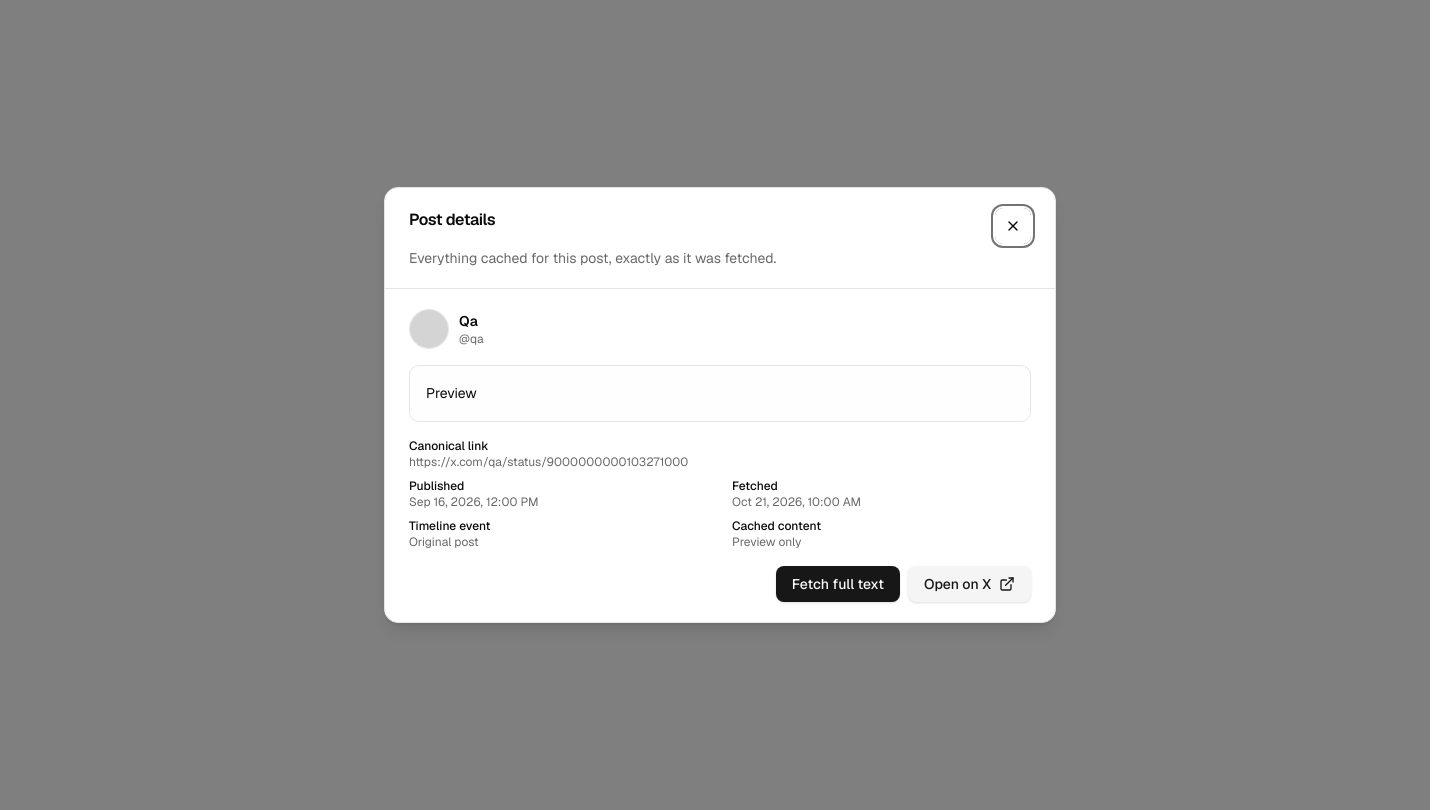
Test case: preserves the preview and permits retry after a fetch failure
Click the button "Fetch full text".
click(838, 584)  # box [776,566,900,602]
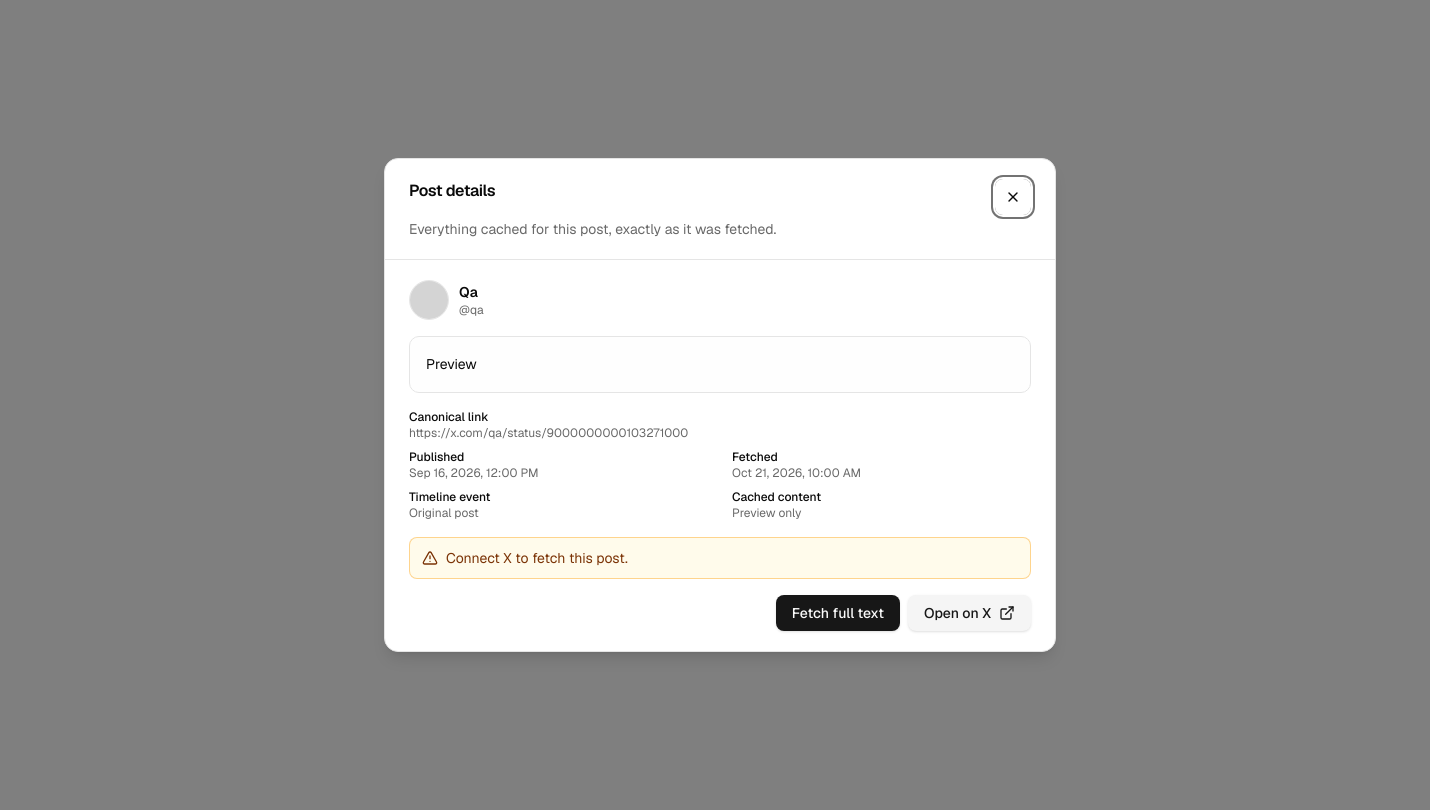
Check: the text "Preview" is shown, box [426,355,477,373]
Check: the message reads "Connect X to fetch this post.", box [446,549,628,567]
